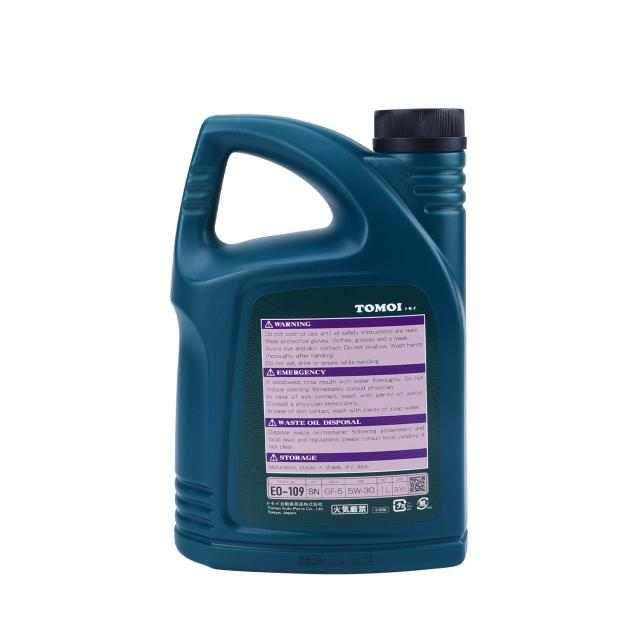motor_oil: (157, 95, 477, 583)
